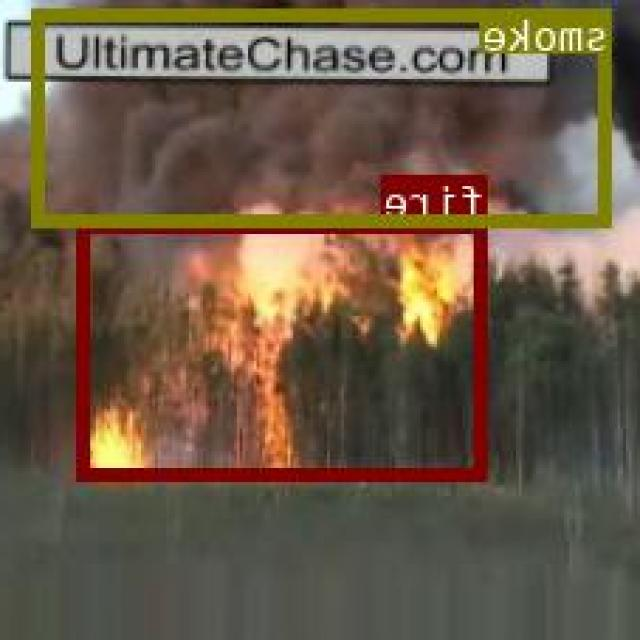fire: (79, 220, 488, 478)
smoke: (36, 6, 613, 225)
